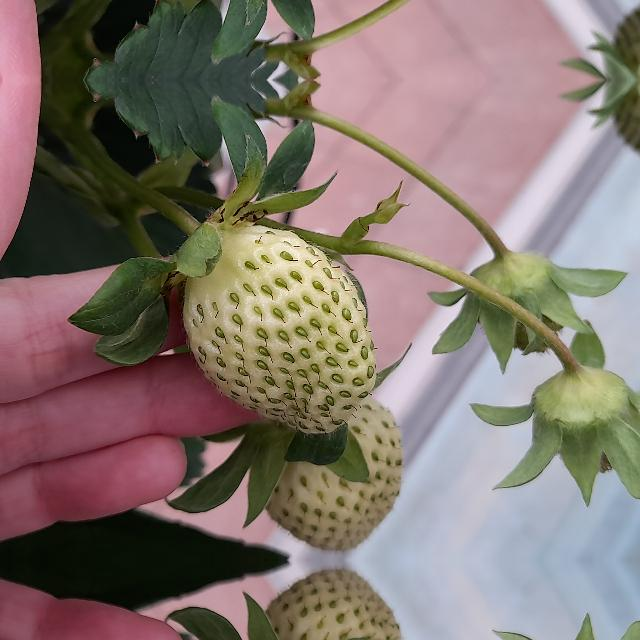Health_25: (183, 225, 375, 433)
